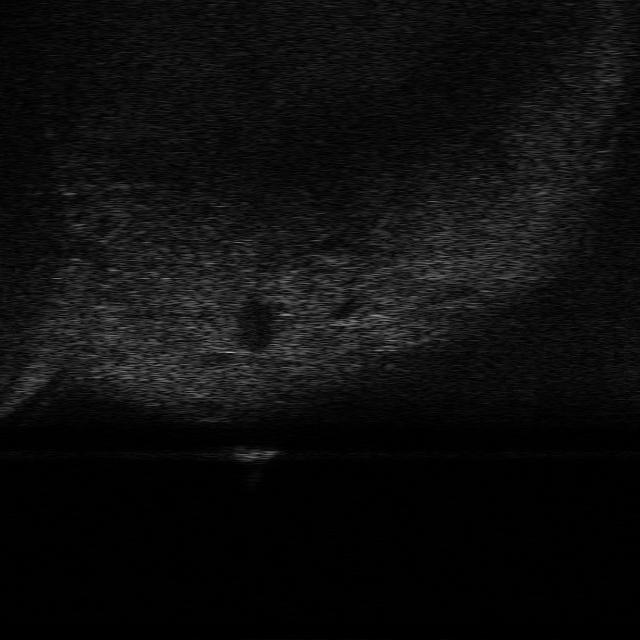cube: (219, 445, 286, 463)
